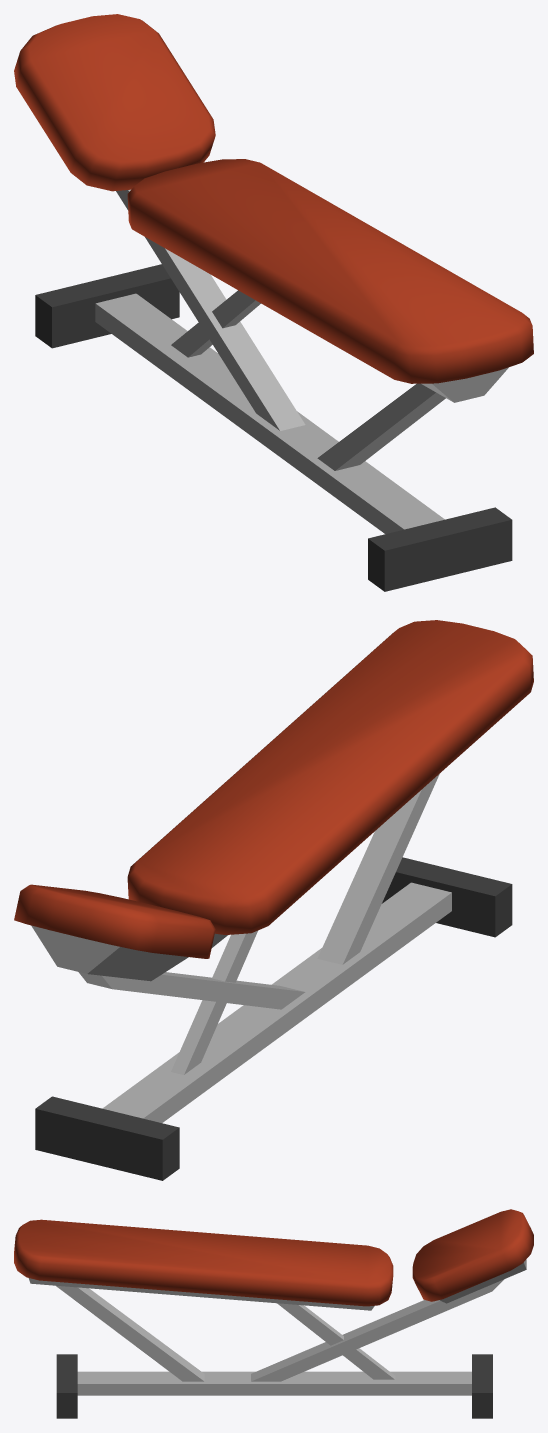
Rendered from Bench_C.fbx.
3 renders of one model, top to bottom at view 1: azimuth 30°, elevation 25°; view 2: azimuth 150°, elevation 25°; view 3: azimuth 270°, elevation 25°, orthographic. The views are drawn at different scales.
Parts seen in each view (by area): view 1: Bench_C; view 2: Bench_C; view 3: Bench_C.
Part boxes in pixels (box(x1,y1,x2,y2)): Bench_C: box(14, 14, 533, 591); Bench_C: box(14, 620, 533, 1180); Bench_C: box(14, 1209, 533, 1418).
Bounding box in the file's own units: 32.96 × 65.5 × 174.
